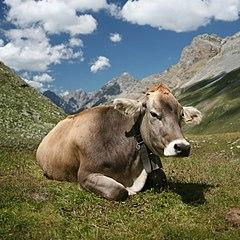muzzles: (162, 137, 193, 160)
